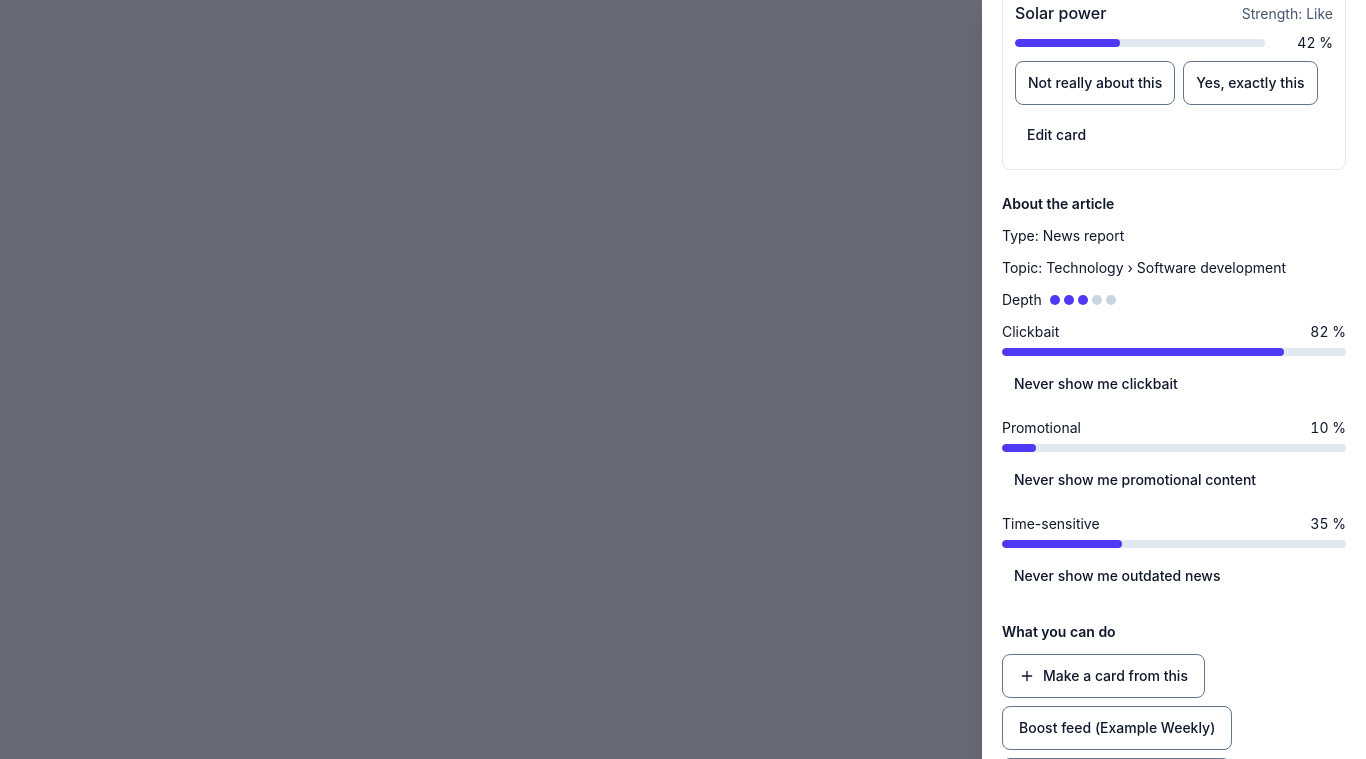
Test: "Never show me …" › for clickbait switches demote.clickbait on
The image size is (1366, 759).
(page scrolled)
Click the button "Never show me clickbait".
click(1096, 384)  # box [1002, 362, 1190, 406]
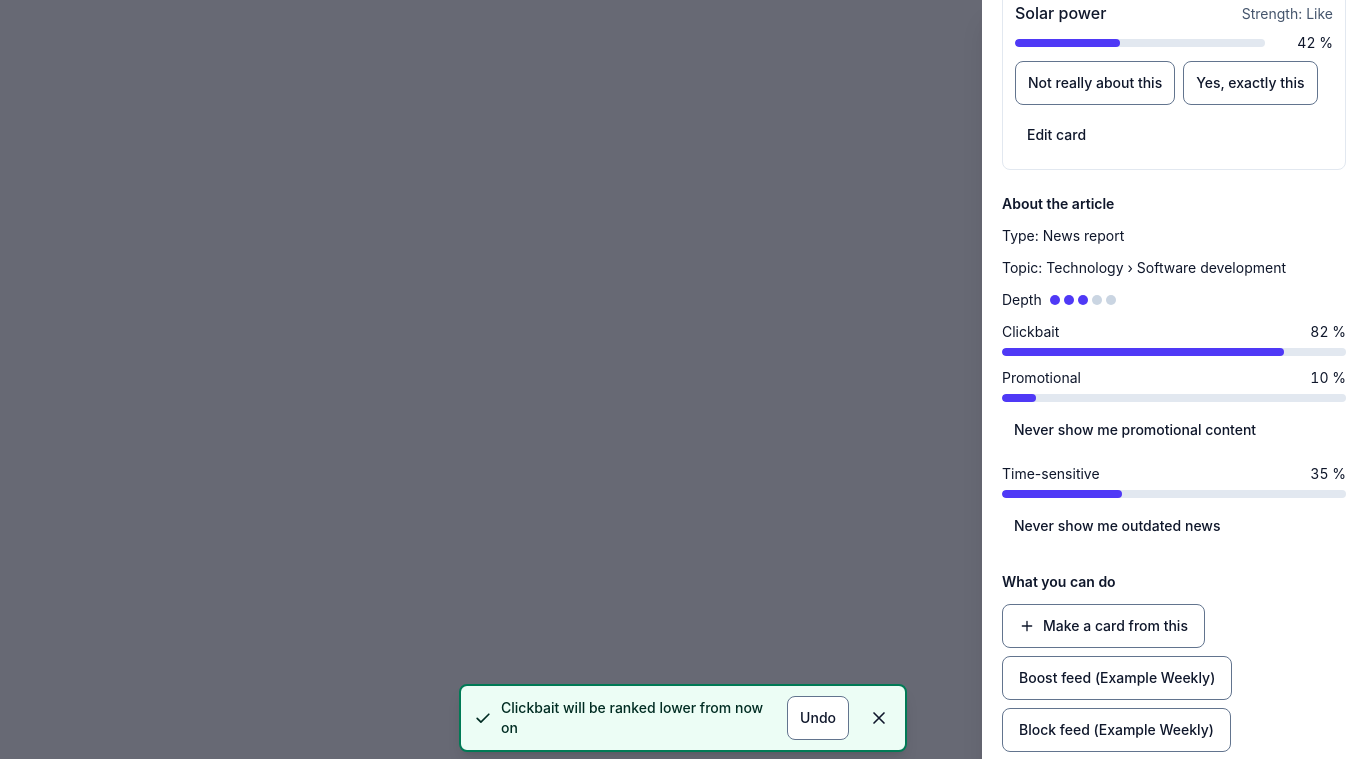
Expected: the text "Clickbait will be ranked lower from now on" is shown, [459, 684, 907, 752]
Expected: the button "Never show me clickbait" is gone
